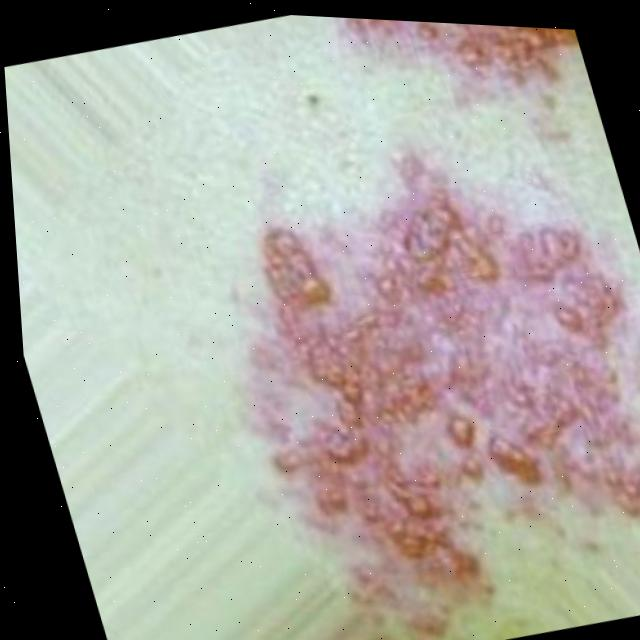Shingles: (178, 134, 640, 640), (299, 16, 591, 134)
